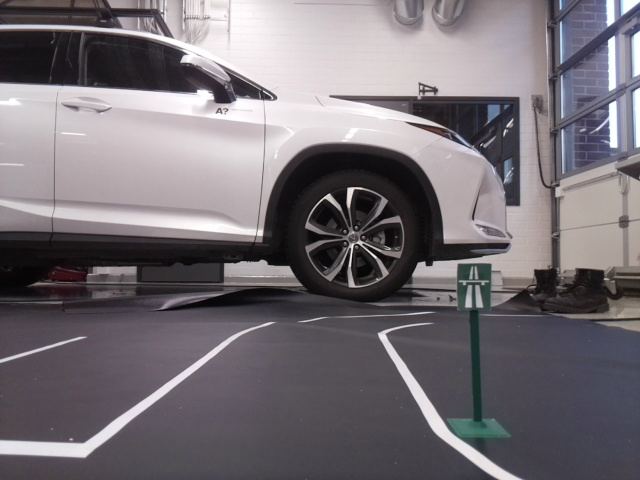HighwayEntrance: (458, 263, 489, 311)
